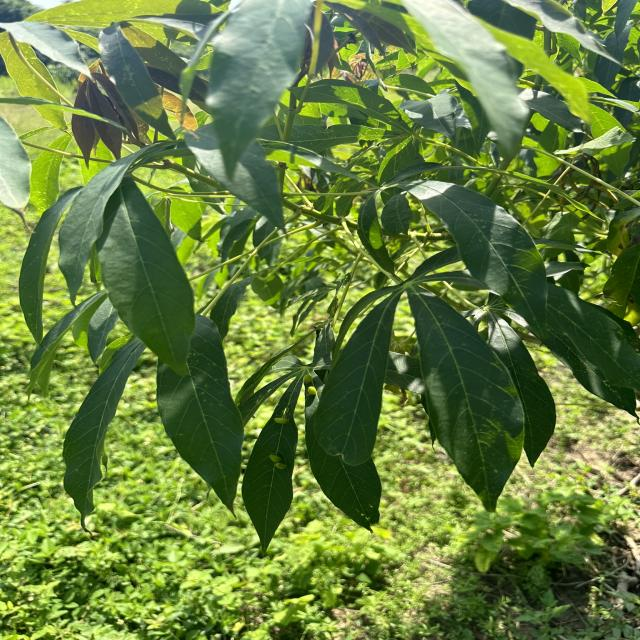Maleza: (151, 548, 548, 640), (6, 513, 224, 640)
Mosca: (265, 403, 298, 434), (260, 452, 291, 480), (298, 371, 320, 408)
